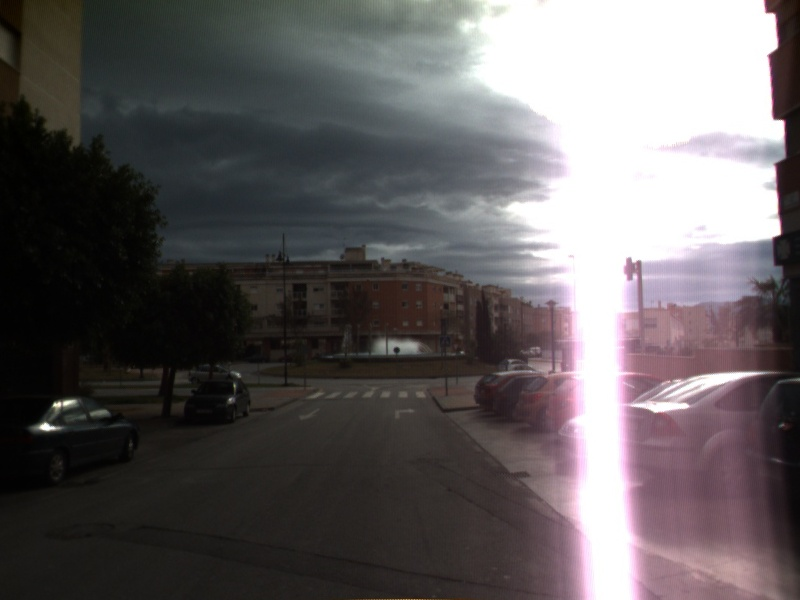RIGHT: (392, 405, 418, 421)
